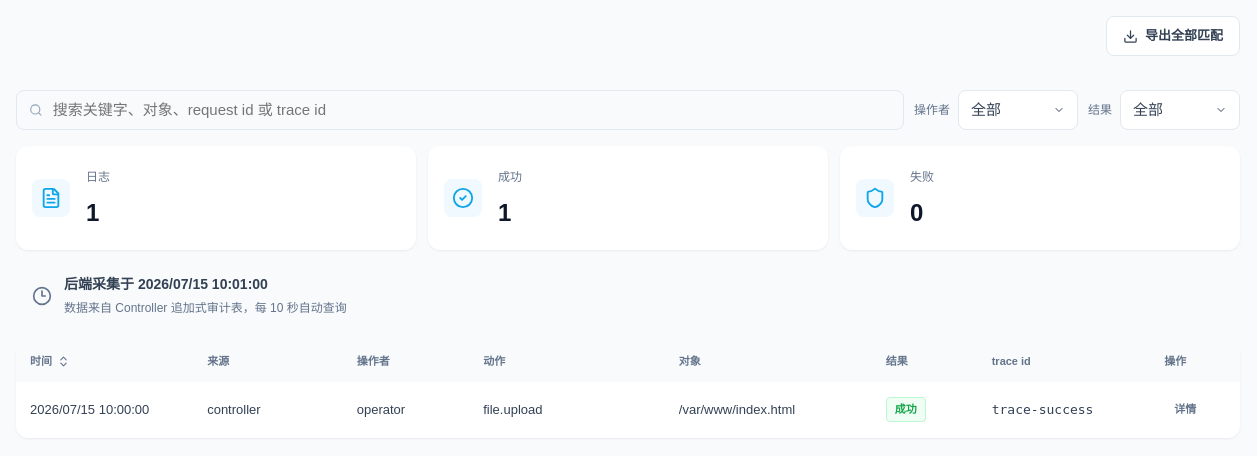
audit real backend › clears rows from the previous query when a changed filter fails
Expected: the text "file.upload" is shown, left=483, top=402, right=542, bottom=417
Type "missing" into the field with placeholder "搜索关键字、对象、request id 或 trace id" at (471, 110), box left=51, top=98, right=891, bottom=122
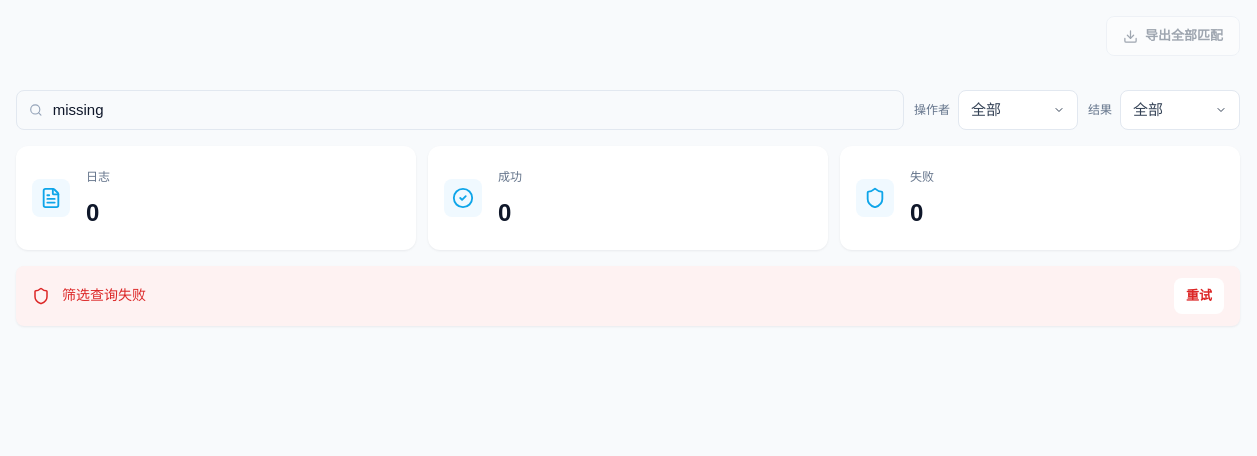
Expected: the text "筛选查询失败" is shown, left=62, top=285, right=146, bottom=306
Expected: the text "file.upload" is gone
